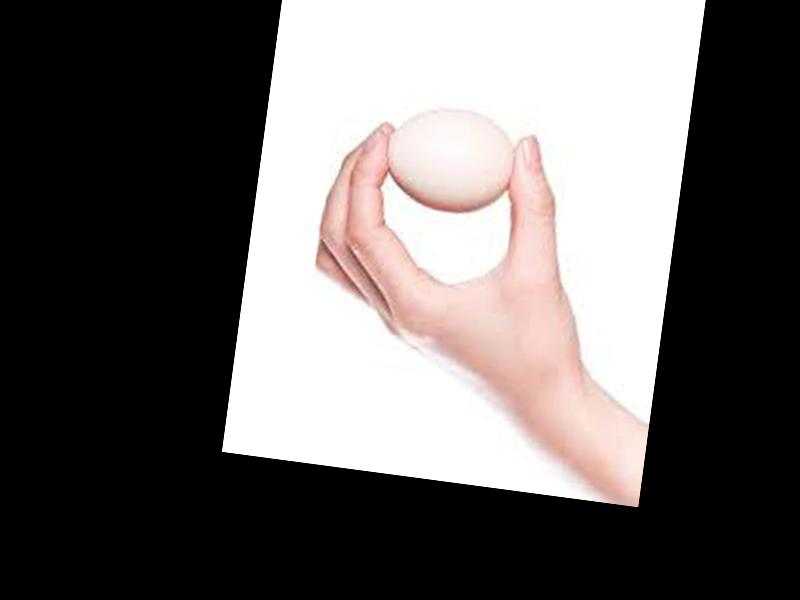Eggs: (379, 100, 521, 219)
